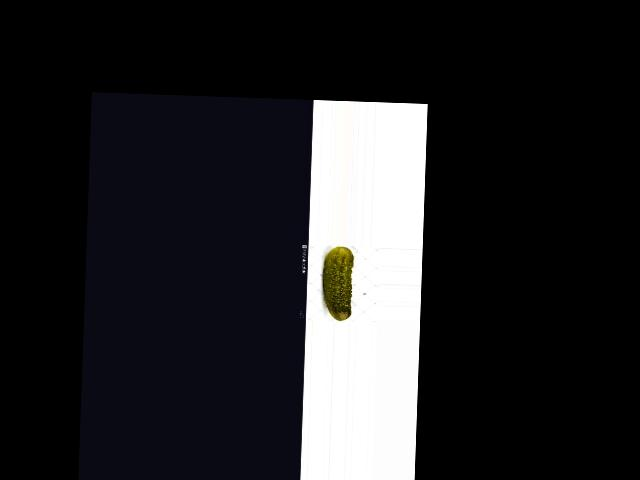cucumber: (321, 246, 353, 322)
